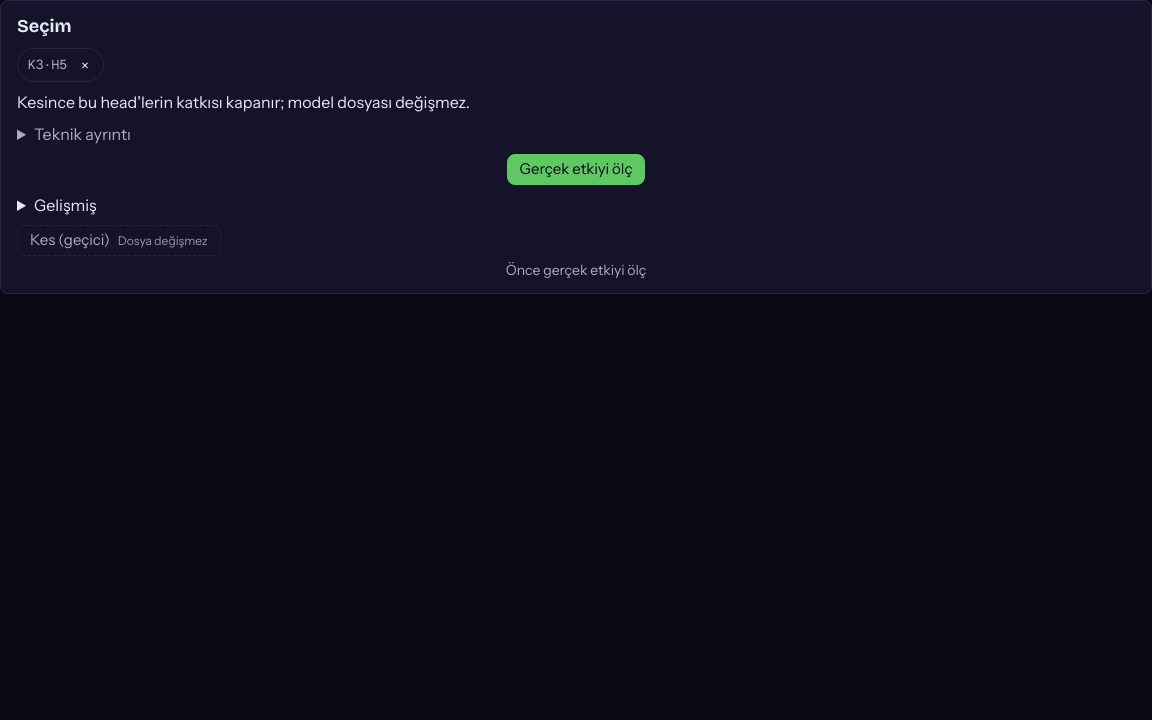
Test: measure also asks about the Explore text, and the card shows the hundred dots for it
Click the button "Gerçek etkiyi ölç".
click(576, 169)  # box left=507, top=154, right=645, bottom=185
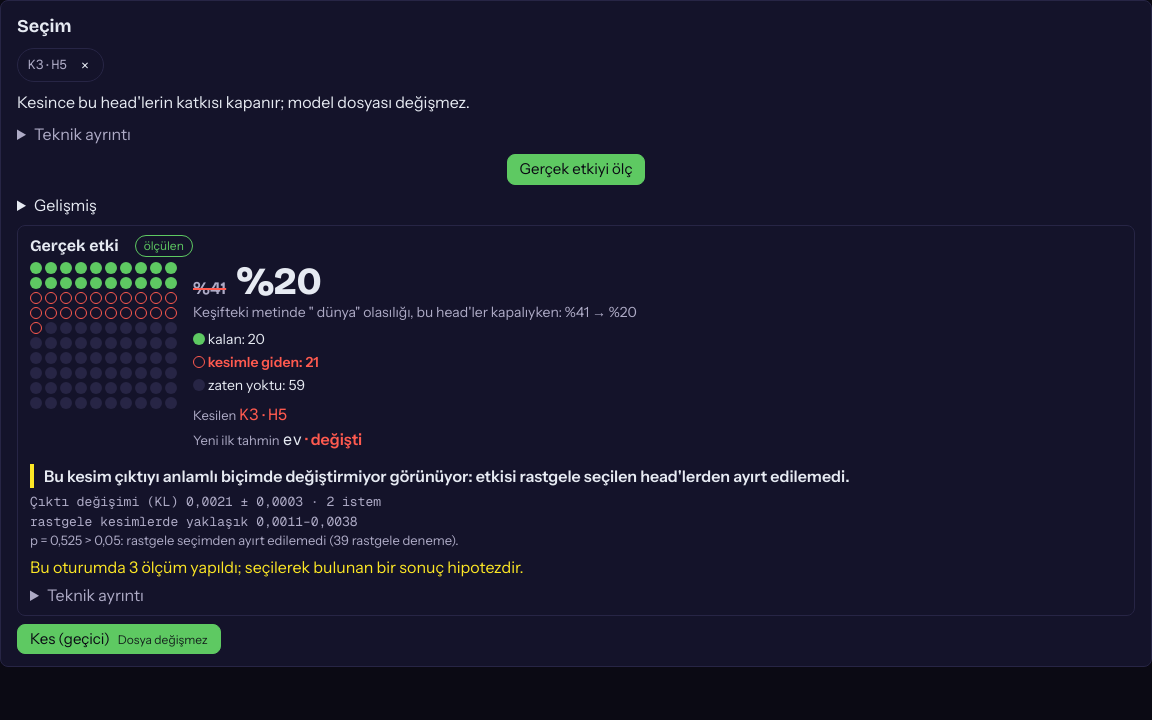
Check: the text "\" dünya\" olasılığı, bu head'ler kapalıyken: %41 → %20" is shown, box left=193, top=303, right=637, bottom=321
Check: the text "K3·H5" next to "Kesilen" is shown, box left=240, top=404, right=288, bottom=425
Check: the text "· değişti" is shown, box left=305, top=429, right=362, bottom=449
